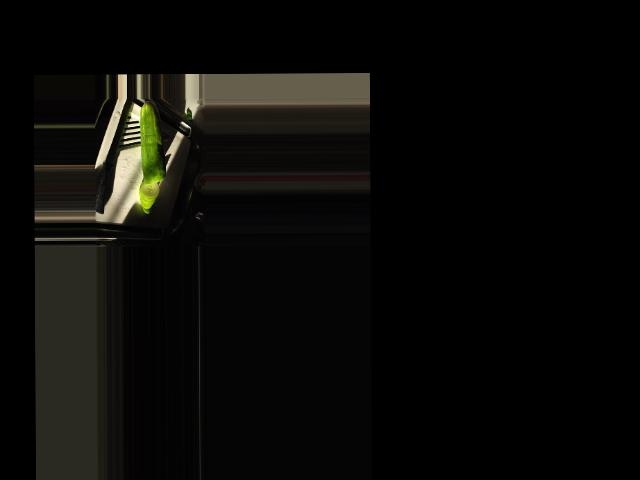cucumber: (139, 100, 165, 185)
